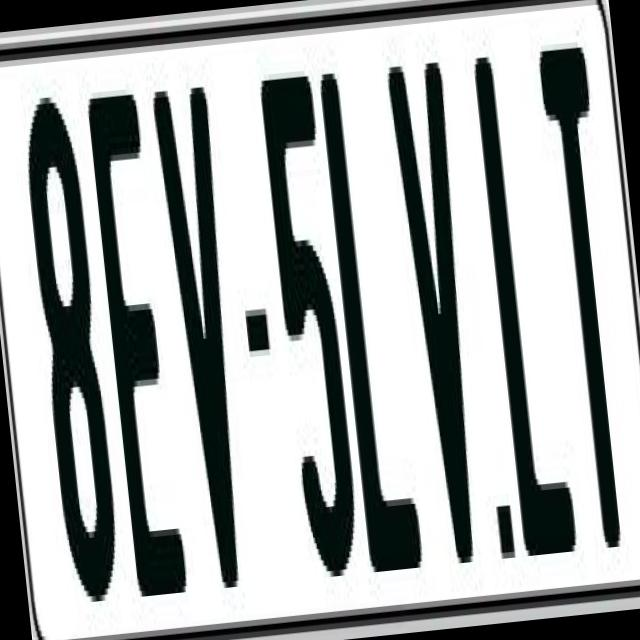5: (256, 58, 365, 590)
8: (15, 82, 126, 604)
E: (86, 87, 190, 614)
L: (471, 46, 584, 550), (314, 69, 421, 590)
T: (537, 46, 640, 584)
V: (383, 56, 495, 576), (152, 86, 260, 613)
